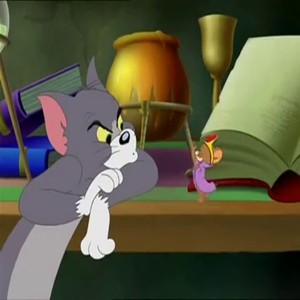Jerry: (183, 131, 220, 207)
